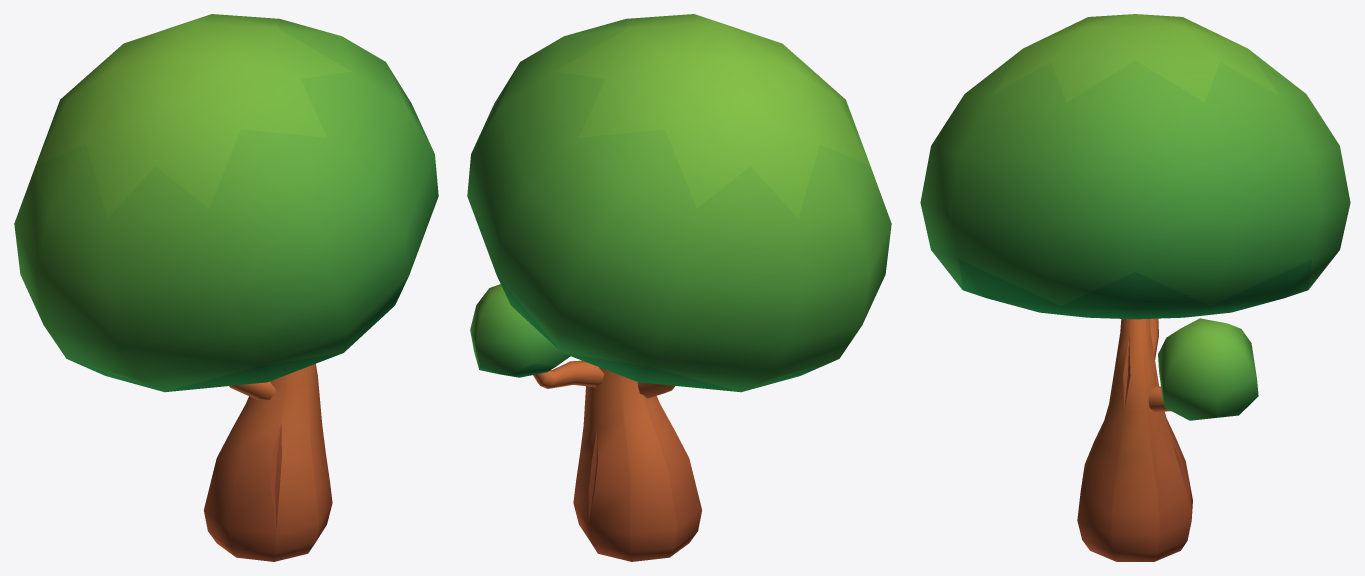
The model's file is Tree1A.glb.
3 renders of one model, left to right at view 1: azimuth 30°, elevation 25°; view 2: azimuth 150°, elevation 25°; view 3: azimuth 270°, elevation 25°, orthographic. The views are drawn at different scales.
Visible parts, largest first — view 1: Tree_1_A_Color1; view 2: Tree_1_A_Color1; view 3: Tree_1_A_Color1.
Boxes of the visible parts, x1=… form: Tree_1_A_Color1: x1=14, y1=14, x2=438, y2=561; Tree_1_A_Color1: x1=467, y1=14, x2=891, y2=561; Tree_1_A_Color1: x1=920, y1=14, x2=1350, y2=561.
Size of the model in its own units: 3.18 by 4.16 by 3.25.
Materials: 1 (1 with a texture image).
